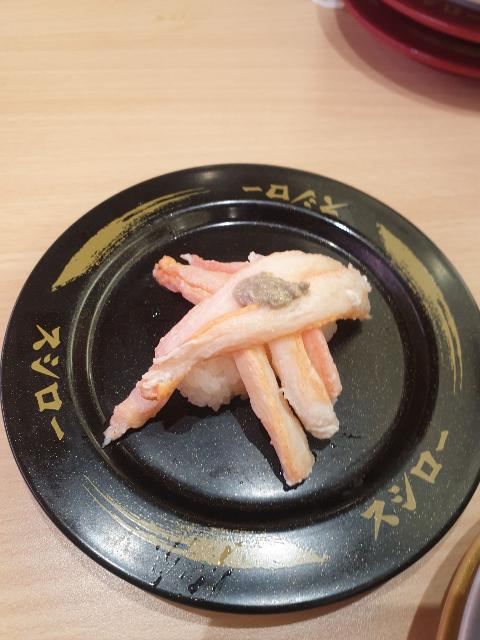janback: (0, 143, 475, 612), (315, 8, 480, 112), (407, 0, 480, 32)
jangold: (448, 533, 480, 640)
